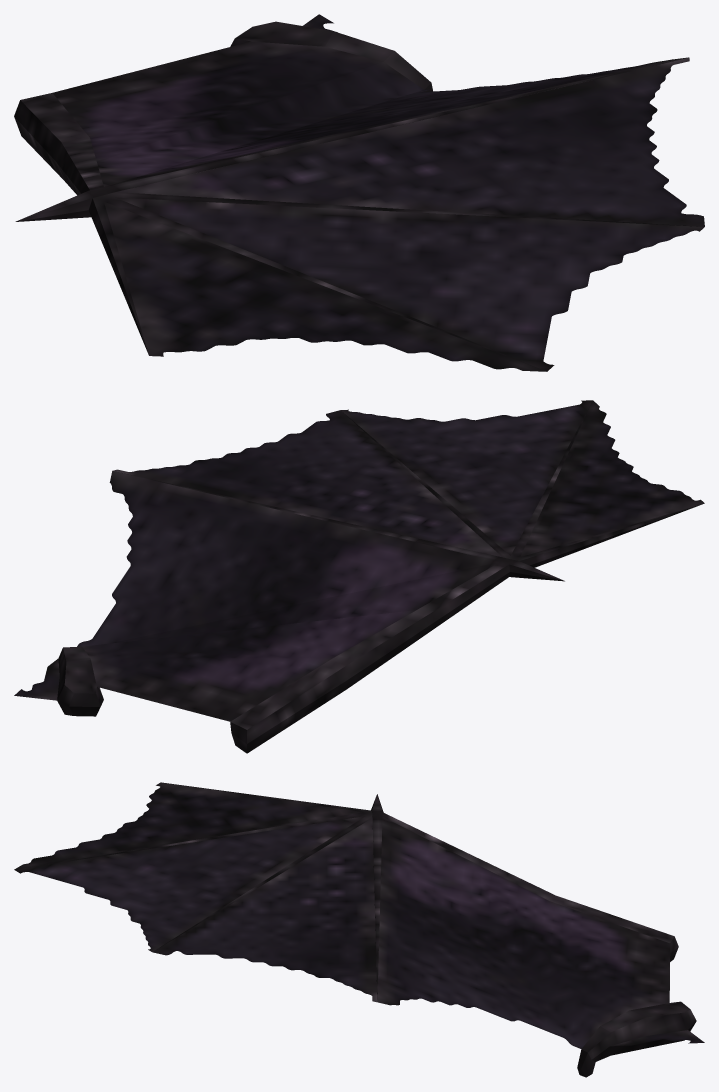
File: epionwing.obj
The picture shows the model from 3 angles, top to bottom: view 1: azimuth 30°, elevation 25°; view 2: azimuth 150°, elevation 25°; view 3: azimuth 270°, elevation 25°; orthographic projection. The views are drawn at different scales.
Visible parts, largest first — view 1: base; view 2: base; view 3: base.
Boxes of the visible parts, bbox=[...] form: base: bbox=[14, 14, 704, 371]; base: bbox=[14, 400, 704, 753]; base: bbox=[14, 782, 704, 1077].
Bounding box in the file's own units: 1.49 × 0.345 × 1.97.
